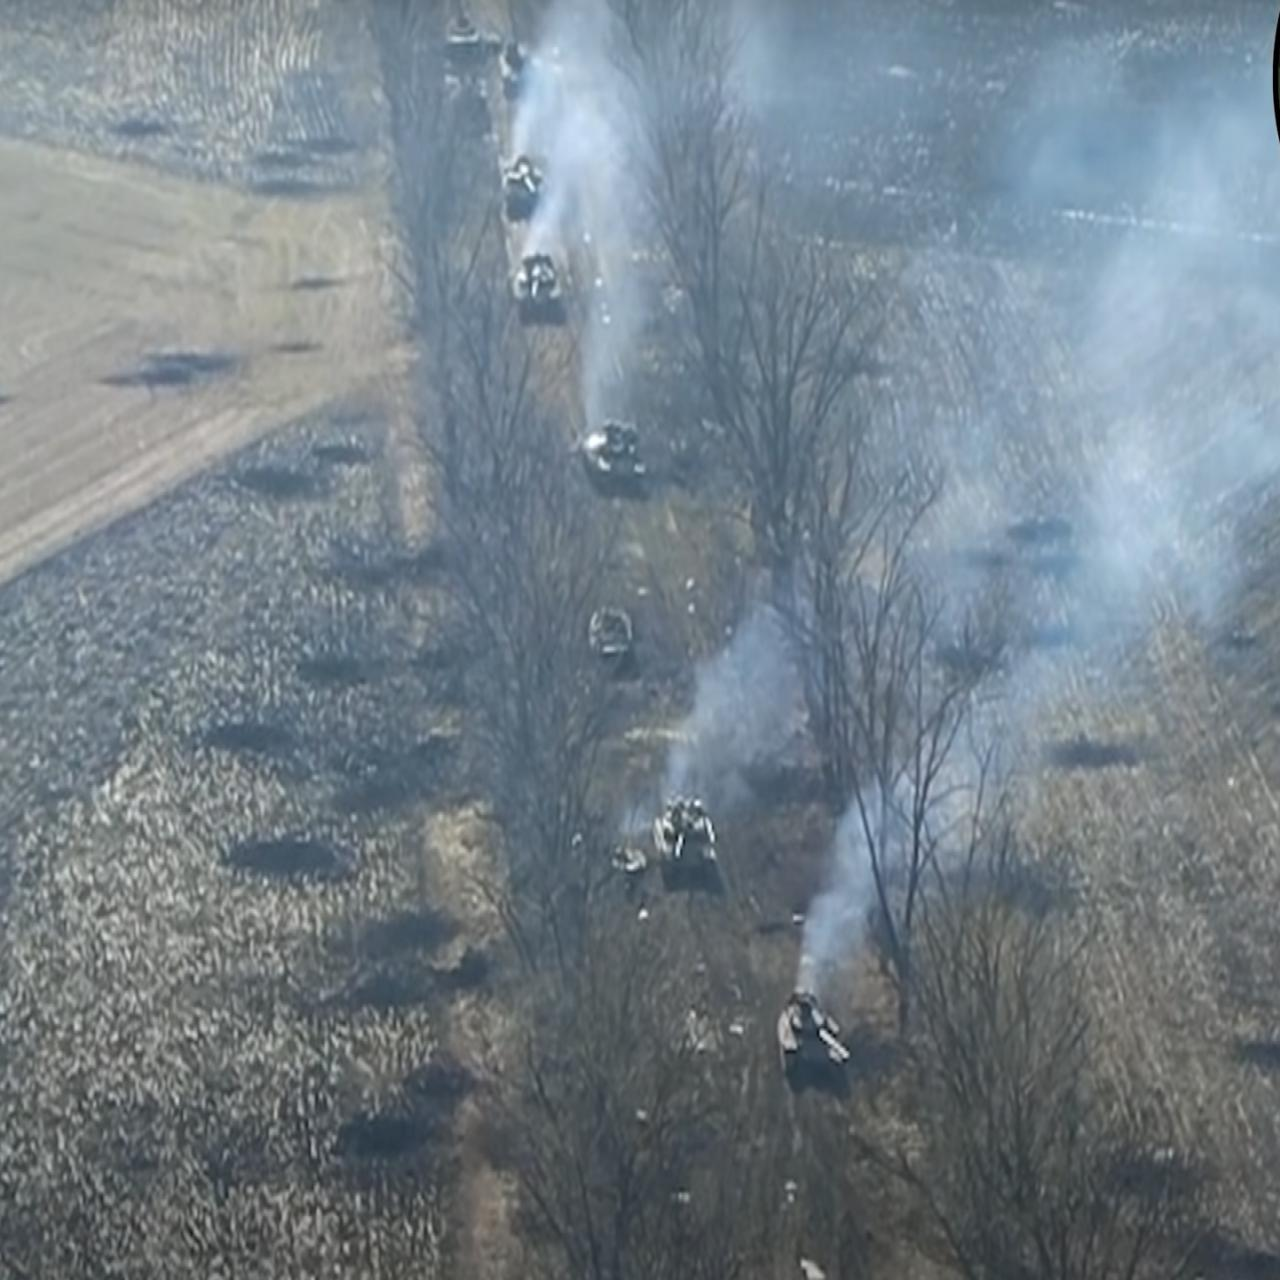MIL_Veh: (775, 988, 852, 1081), (641, 798, 723, 884), (568, 416, 647, 499), (502, 251, 568, 325), (490, 150, 559, 220)
